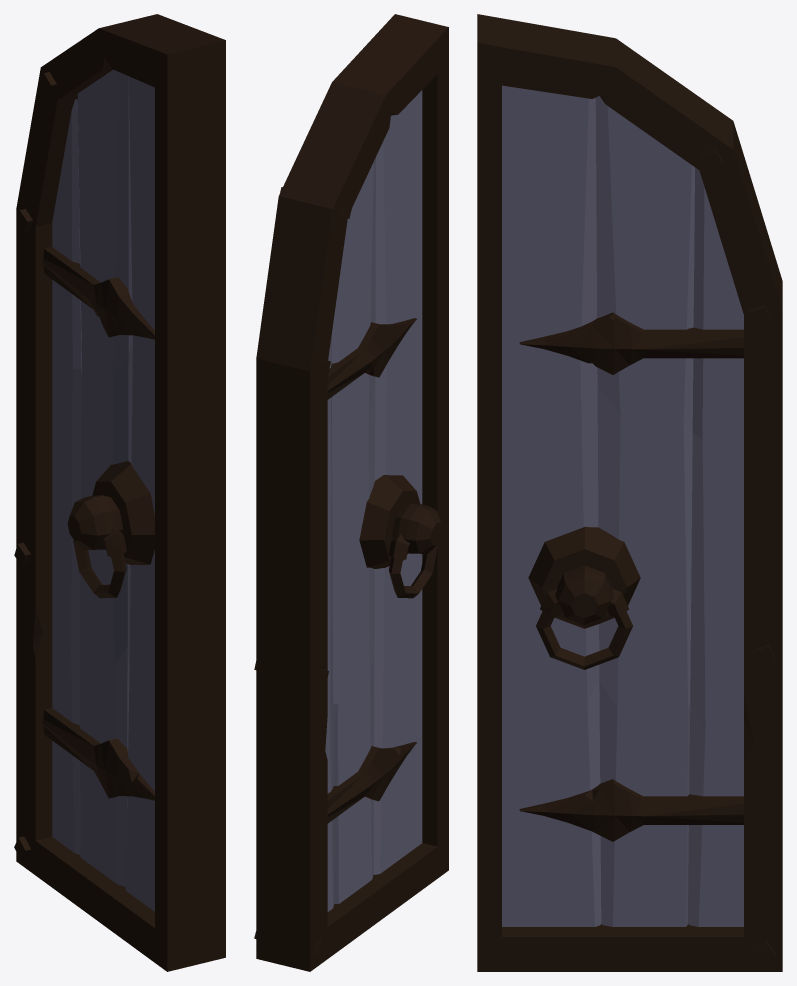
File: SFFA_Door_L.fbx
The picture shows the model from 3 angles, left to right: view 1: azimuth 30°, elevation 25°; view 2: azimuth 150°, elevation 25°; view 3: azimuth 270°, elevation 25°; orthographic projection. The views are drawn at different scales.
Visible parts, largest first — view 1: SFFA_Door_L; view 2: SFFA_Door_L; view 3: SFFA_Door_L.
Part boxes in pixels (x1,y1,x2,y2): SFFA_Door_L: [14, 14, 225, 971]; SFFA_Door_L: [254, 14, 448, 971]; SFFA_Door_L: [477, 14, 782, 971].
Size of the model in its own units: 35.52 by 231 by 68.82.
